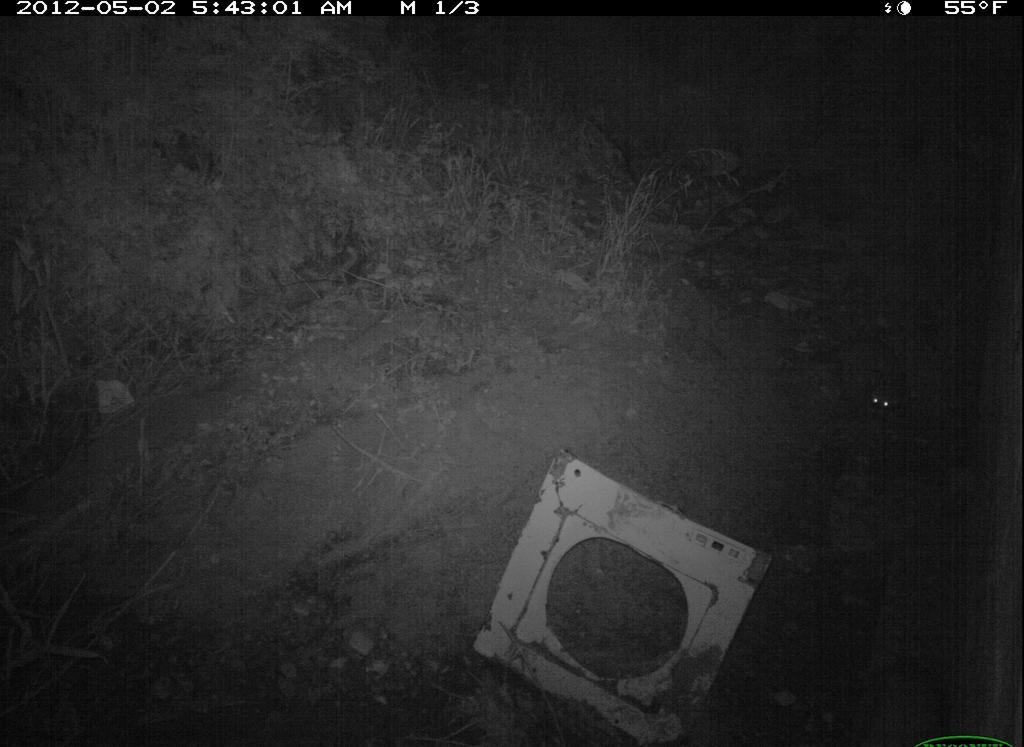raccoon: (812, 314, 935, 447)
